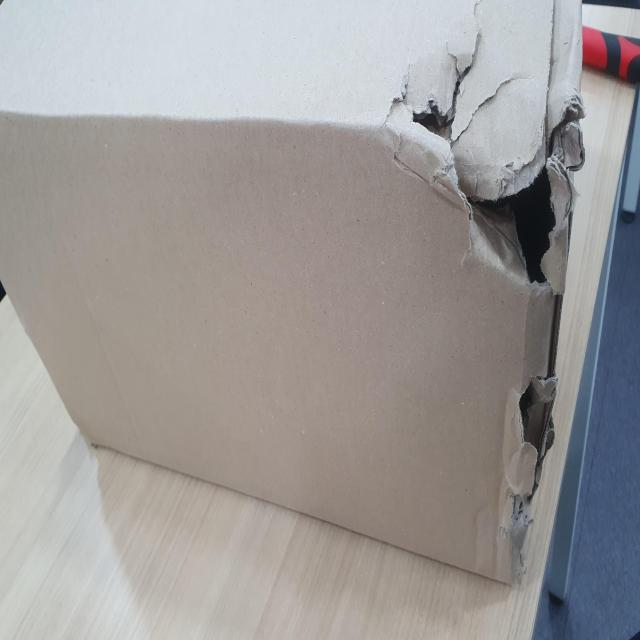damaged: (407, 90, 580, 288), (499, 367, 560, 507)
